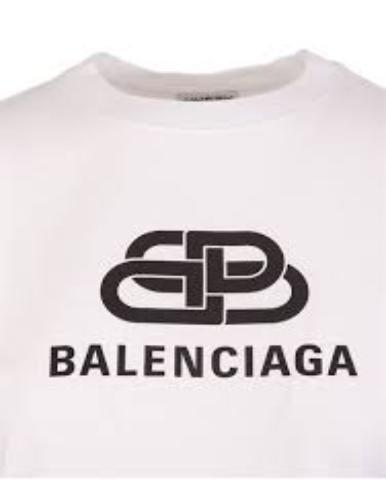BALENCIAGA: (98, 228, 310, 324), (43, 337, 361, 381)
